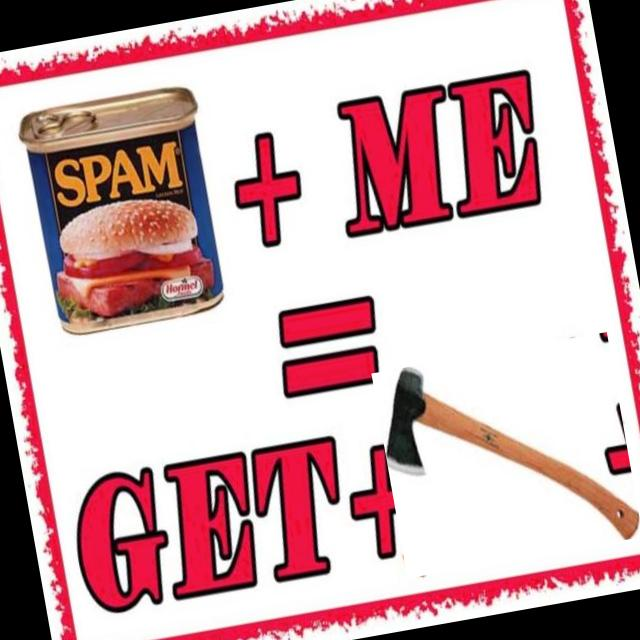Axe: (387, 367, 639, 538)
